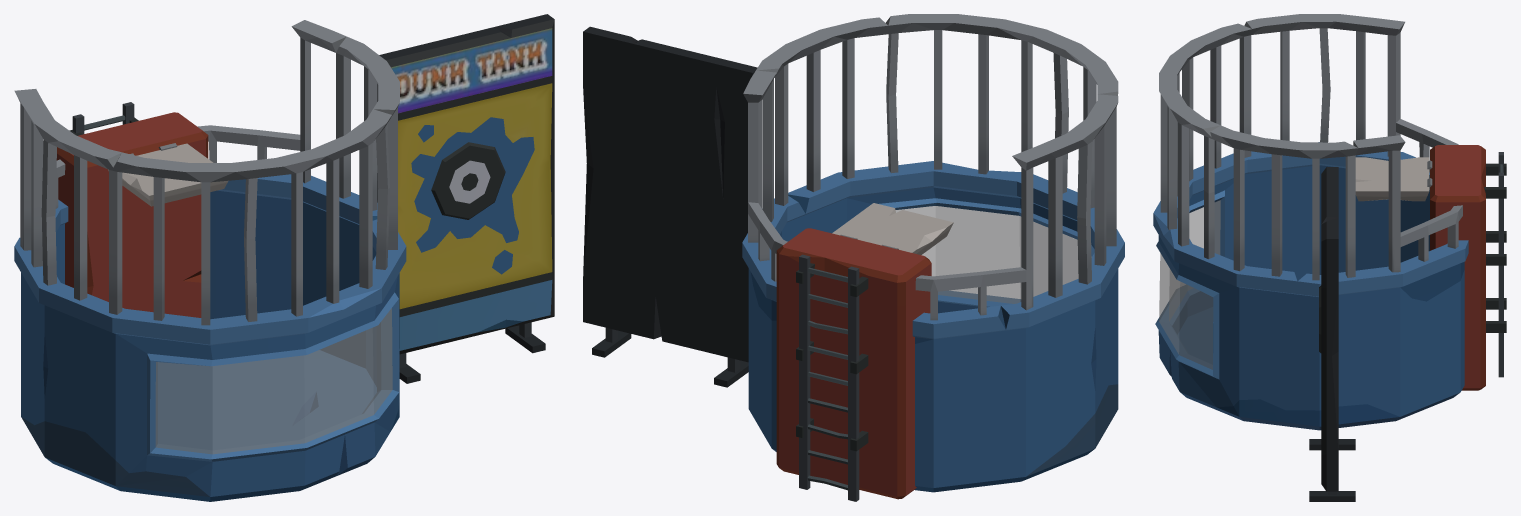
Rendered from dunk-tank.glb.
The picture shows the model from 3 angles, left to right: view 1: azimuth 30°, elevation 25°; view 2: azimuth 150°, elevation 25°; view 3: azimuth 270°, elevation 25°; orthographic projection. The views are drawn at different scales.
Parts seen in each view (by area): view 1: SM_Prop_Dunk_Tank_01, SM_Prop_Dunk_Tank_01_Glass_01; view 2: SM_Prop_Dunk_Tank_01, SM_Prop_Dunk_Tank_01_Glass_01; view 3: SM_Prop_Dunk_Tank_01, SM_Prop_Dunk_Tank_01_Glass_01.
Part boxes in pixels (bbox=[...]): SM_Prop_Dunk_Tank_01: bbox=[14, 14, 554, 501]; SM_Prop_Dunk_Tank_01_Glass_01: bbox=[155, 308, 392, 454]; SM_Prop_Dunk_Tank_01: bbox=[583, 14, 1124, 501]; SM_Prop_Dunk_Tank_01_Glass_01: bbox=[895, 206, 1078, 303]; SM_Prop_Dunk_Tank_01: bbox=[1153, 14, 1506, 501]; SM_Prop_Dunk_Tank_01_Glass_01: bbox=[1159, 200, 1220, 369].
Size of the model in its own units: 420 by 258 by 291.
Materials: 2 (1 with a texture image).
